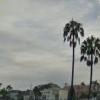Palm tree: (58, 9, 99, 87)
